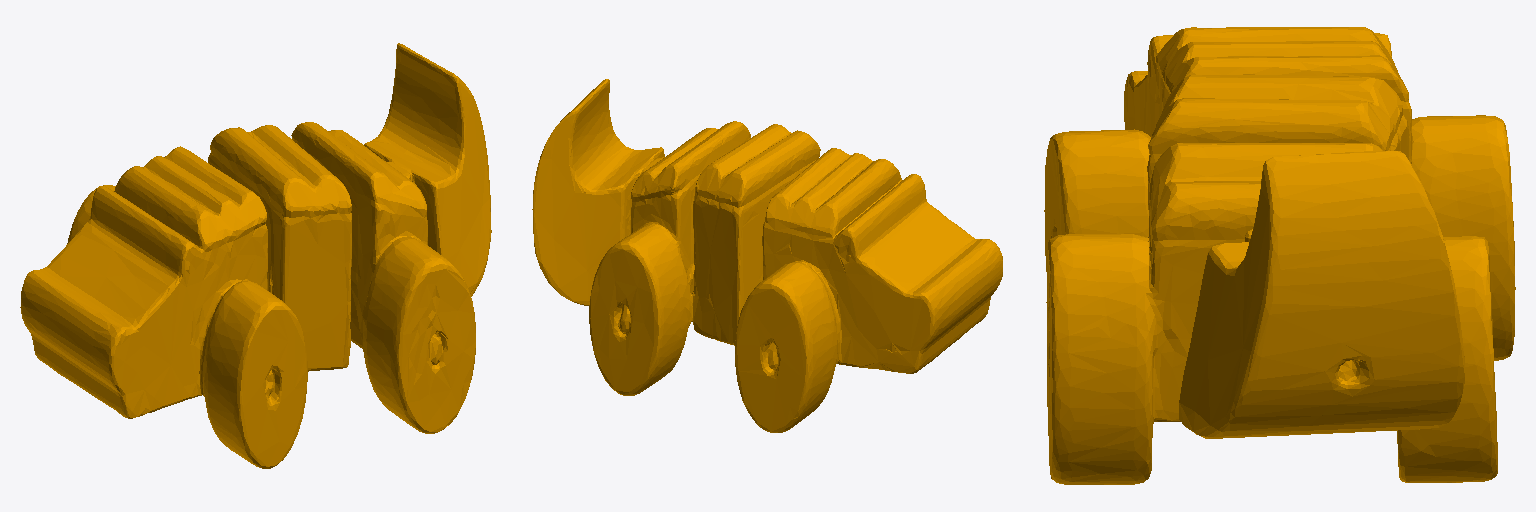
The robot description file, URDF, robot "gs34dkf1":
<?xml version='1.0'?>

<robot name="gs34dkf1">
    <static>false</static>
    <link name="link">
        <inertial>
            <mass value="0.0795233140508812"/>
            <inertia ixx="4.603419165245237e-05" ixy="-3.997407719754673e-06" ixz="-3.69115698538195e-06"
                     iyy="9.391344360779932e-05" iyz="-9.257675018668008e-07" izz="0.00010709807707365343"/>
        </inertial>
        <collision name="collision">
            <geometry>
                <mesh filename="package://miscnet/train/gs34dkf1/collision_model_vhacd.obj"/>
            </geometry>
        </collision>
        <visual name="visual">
            <geometry>
                <mesh filename="package://miscnet/train/gs34dkf1/visual_model.obj"/>
            </geometry>
        </visual>
    </link>
</robot>

--- Facts derived from the render (not from the file) ---
3 views of the same robot in one strip: view 1: azimuth 30°, elevation 25°; view 2: azimuth 150°, elevation 25°; view 3: azimuth 270°, elevation 25° (orthographic).
Robot: gs34dkf1 — 1 links, 0 joints (none); root link link; default pose: every joint at zero.
Visible links, largest first — view 1: link; view 2: link; view 3: link.
Link boxes in pixels (x1,y1,x2,y2): link: [20, 43, 491, 468]; link: [532, 79, 1002, 432]; link: [1044, 27, 1515, 484].
Bounding box of the posed robot: 0.1262 × 0.0852 × 0.078 m (x, y, z).
Meshes: 1 distinct files referenced, 1 mesh visuals loaded (1 OBJ).
